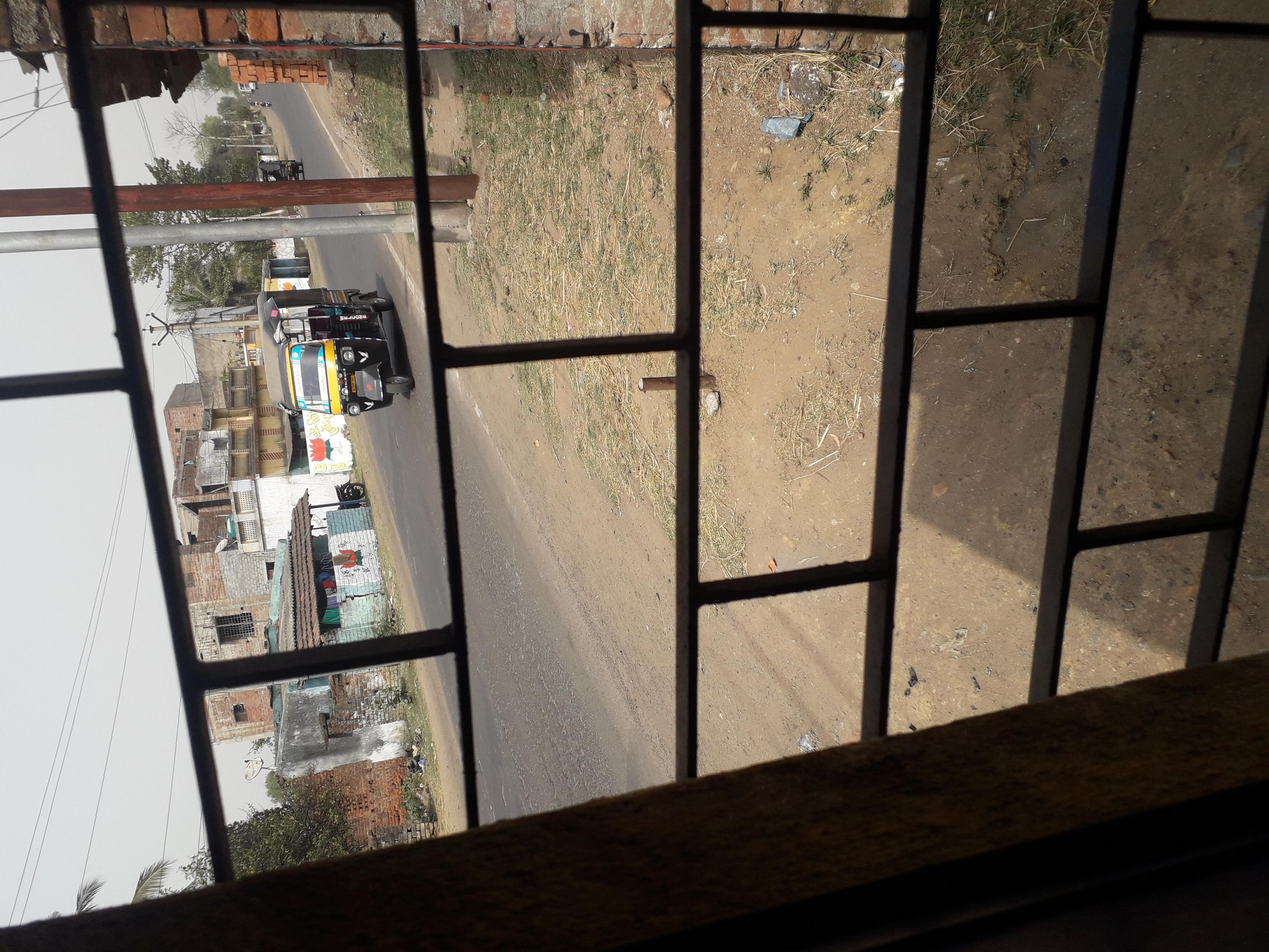Auto: (689, 191, 914, 325)
